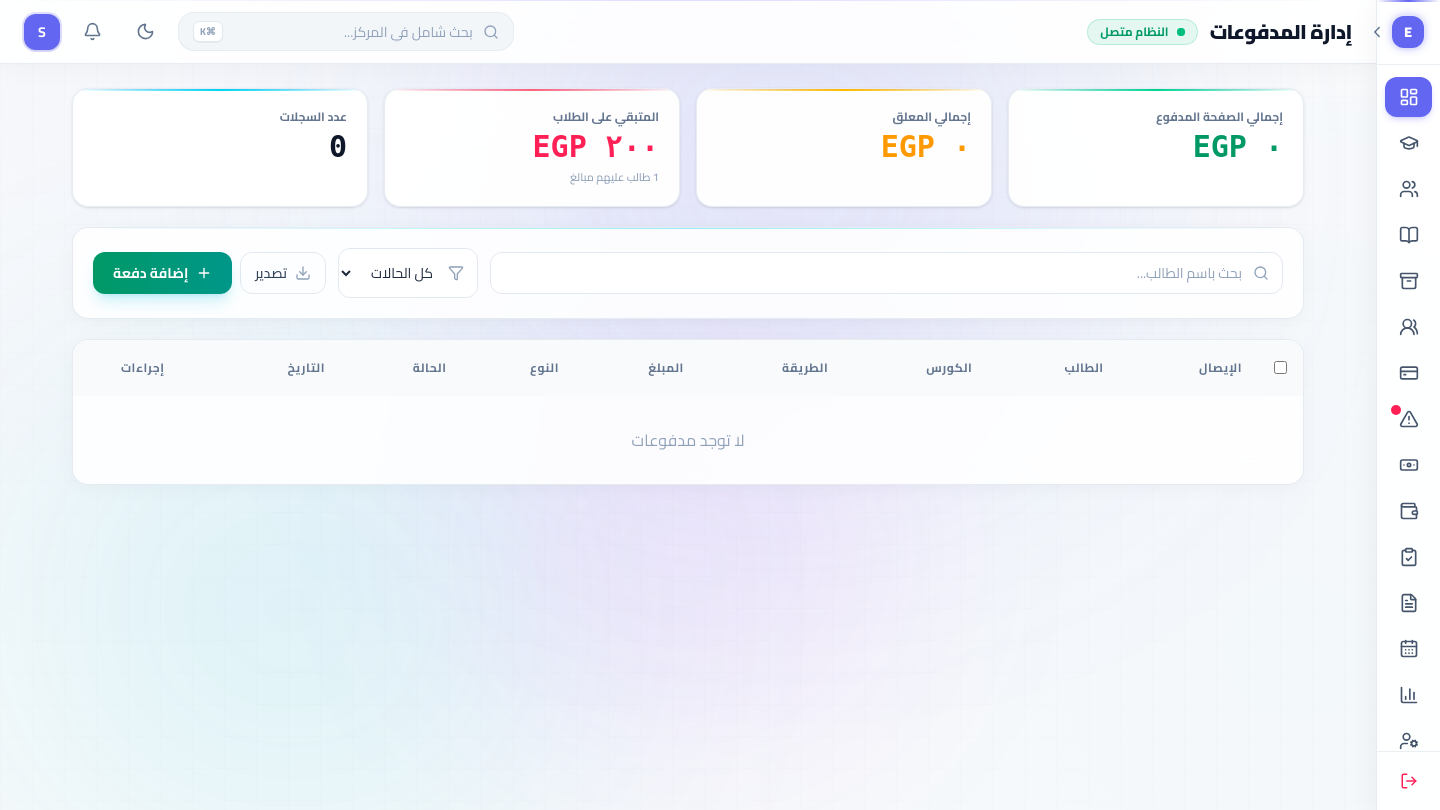
Test: payment form and reversal dialogs › retains balance preview, receipt numbering and installment allocation when recording a payment
The image size is (1440, 810).
Click the button "إضافة دفعة" at (163, 272), box [93,252,232,294]
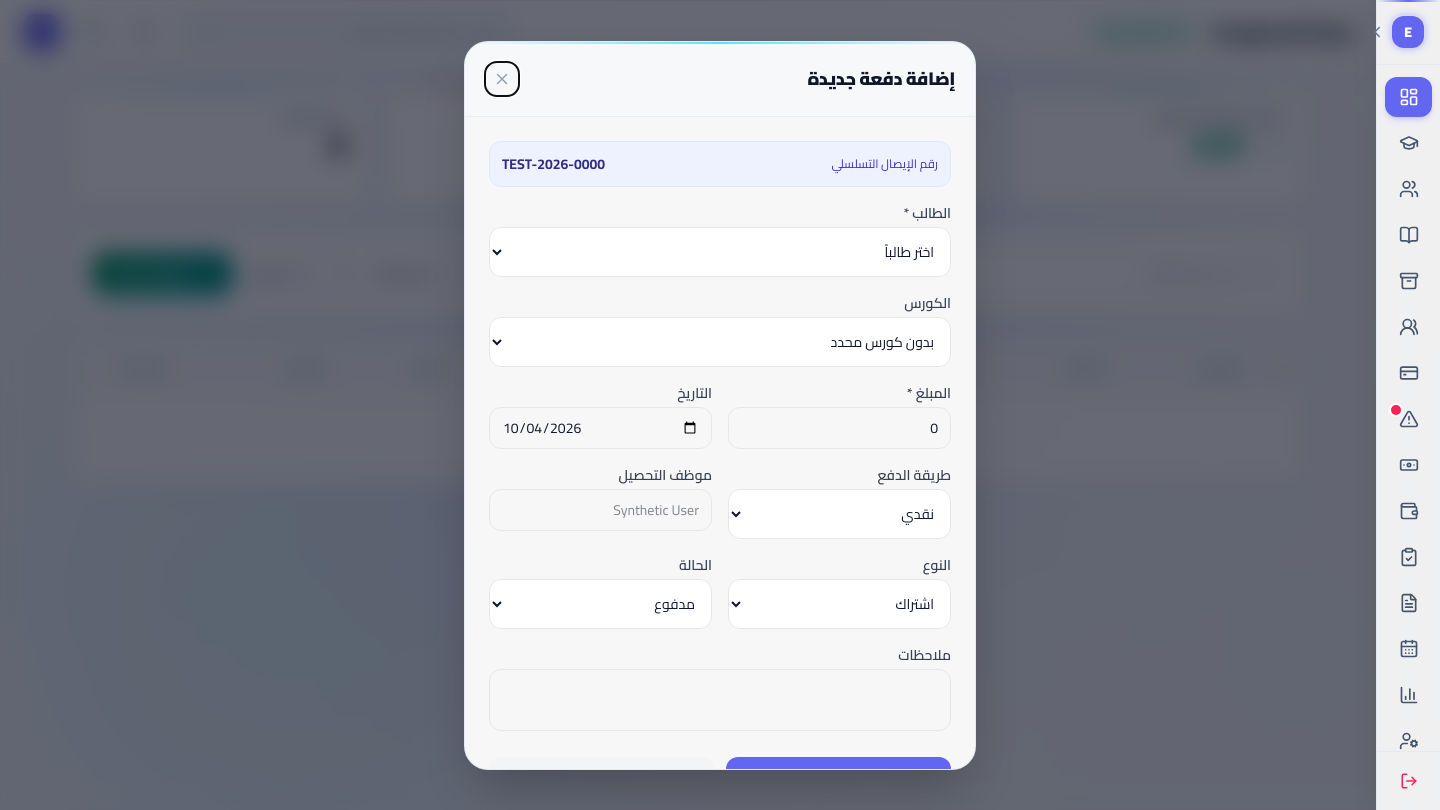
Result: the dropdown below "الطالب *" is shown
Select "طالب تجريبي أول — عليه ٢٠٠" in the dropdown below "الطالب *" at (720, 252), box [489,226,951,276]
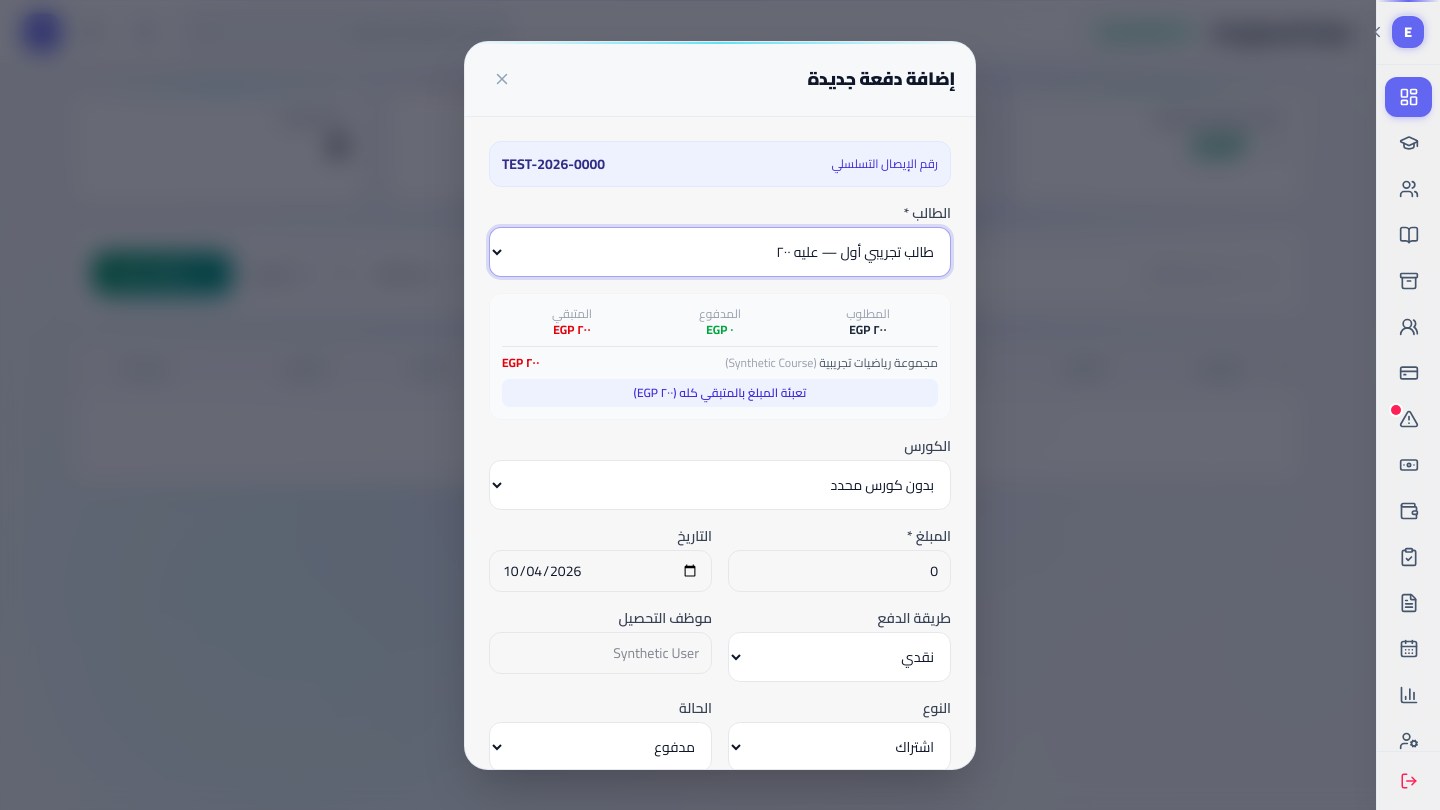
Result: the text "TEST-2026-0000" is shown at [502,154,605,174]
Result: the number field is shown
Result: the text "المطلوب" is shown at [846,302,890,324]
Replace the text in the number field with "50" at (840, 570), box [728,550,951,592]
(page scrolled)
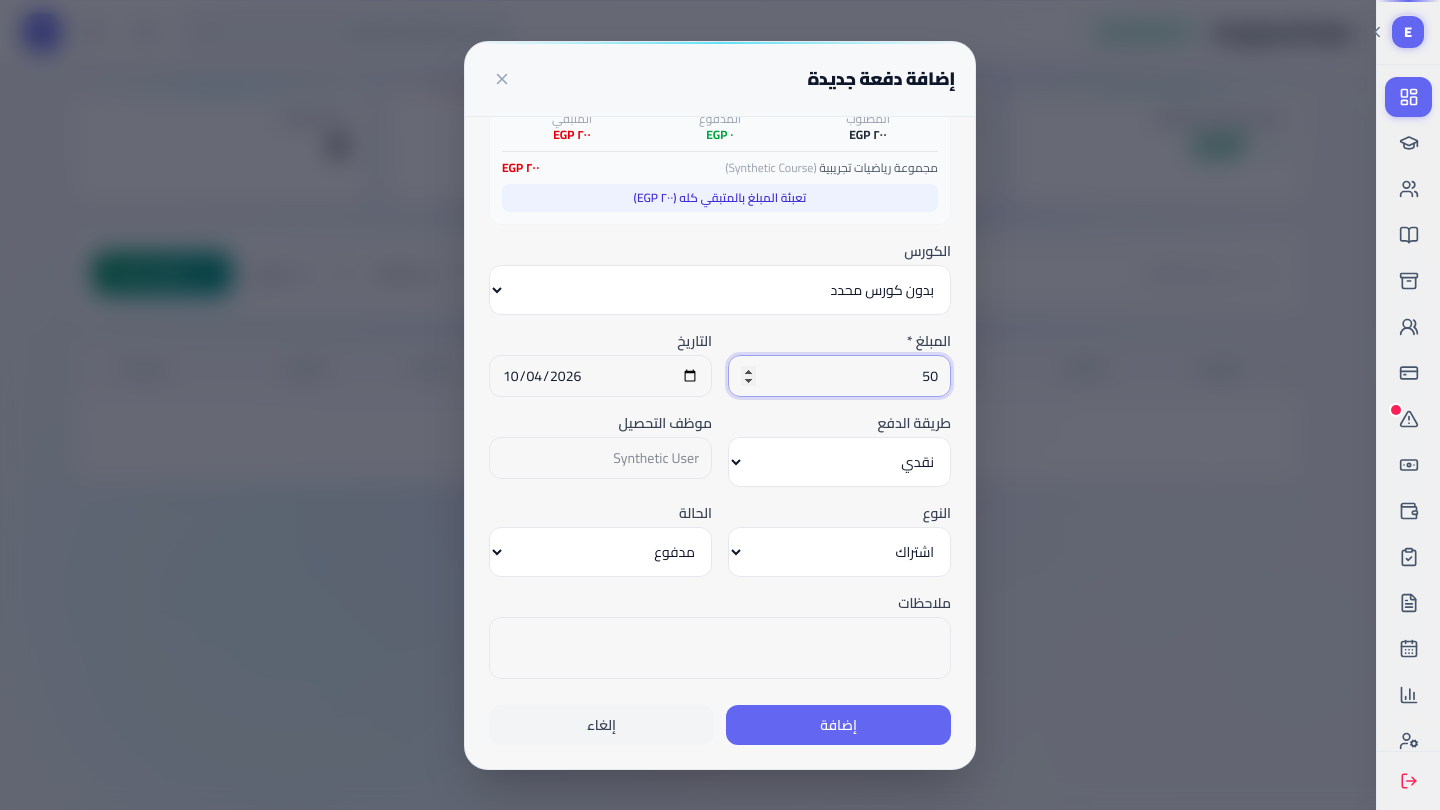
Click the button "إضافة" at (838, 724), box [726,704,951,744]
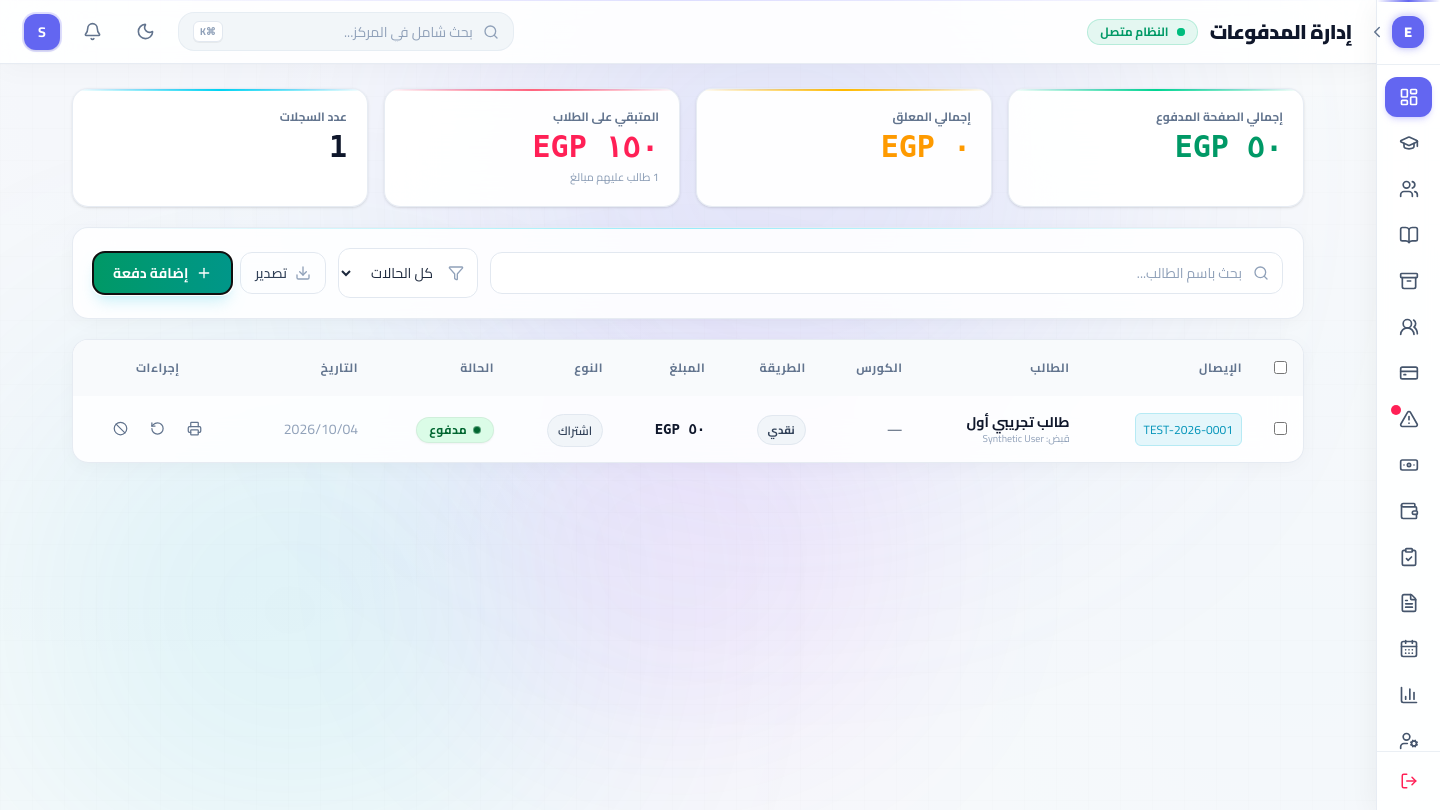
Result: the dialog is gone
